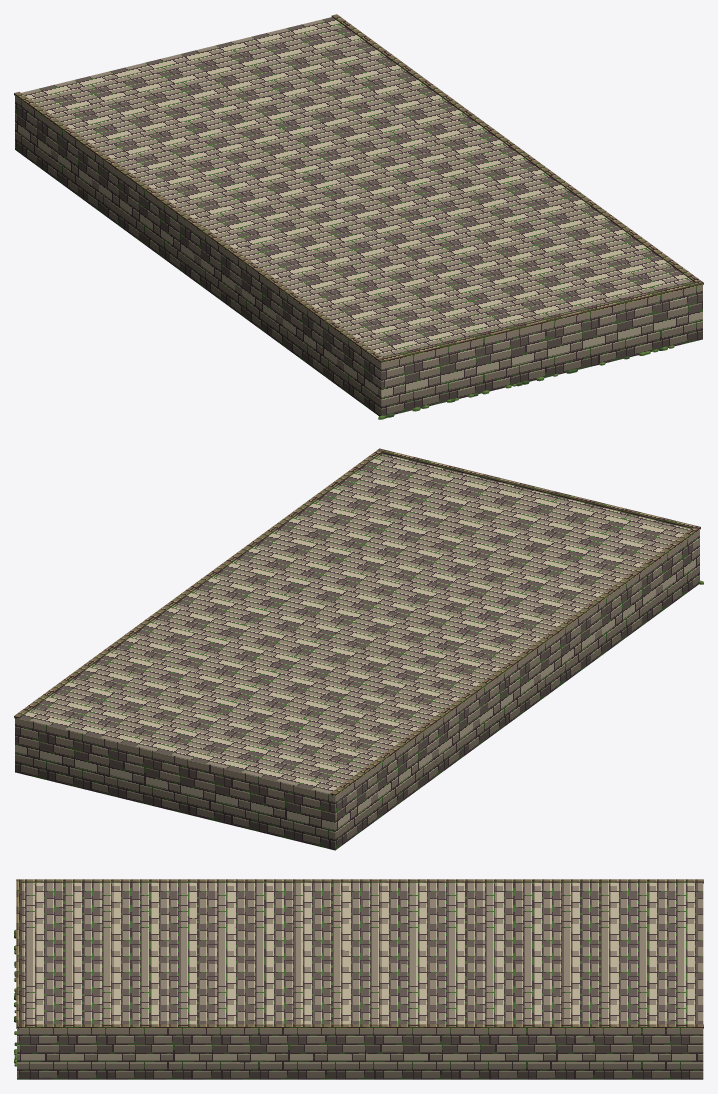
Rendered from scene_wall_e.glb.
The picture shows the model from 3 angles, top to bottom: view 1: azimuth 30°, elevation 25°; view 2: azimuth 150°, elevation 25°; view 3: azimuth 270°, elevation 25°; orthographic projection. The views are drawn at different scales.
Parts seen in each view (by area): view 1: scene_wall_e; view 2: scene_wall_e; view 3: scene_wall_e.
Boxes of the visible parts, x1=… form: scene_wall_e: x1=14, y1=14, x2=703, y2=419; scene_wall_e: x1=14, y1=448, x2=703, y2=850; scene_wall_e: x1=14, y1=879, x2=703, y2=1079.
Size of the model in its own units: 22.09 by 3.77 by 43.24.
Materials: 2 (1 with a texture image).
